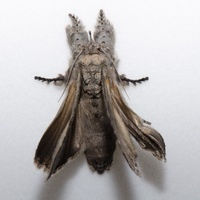insect: (34, 10, 165, 178)
